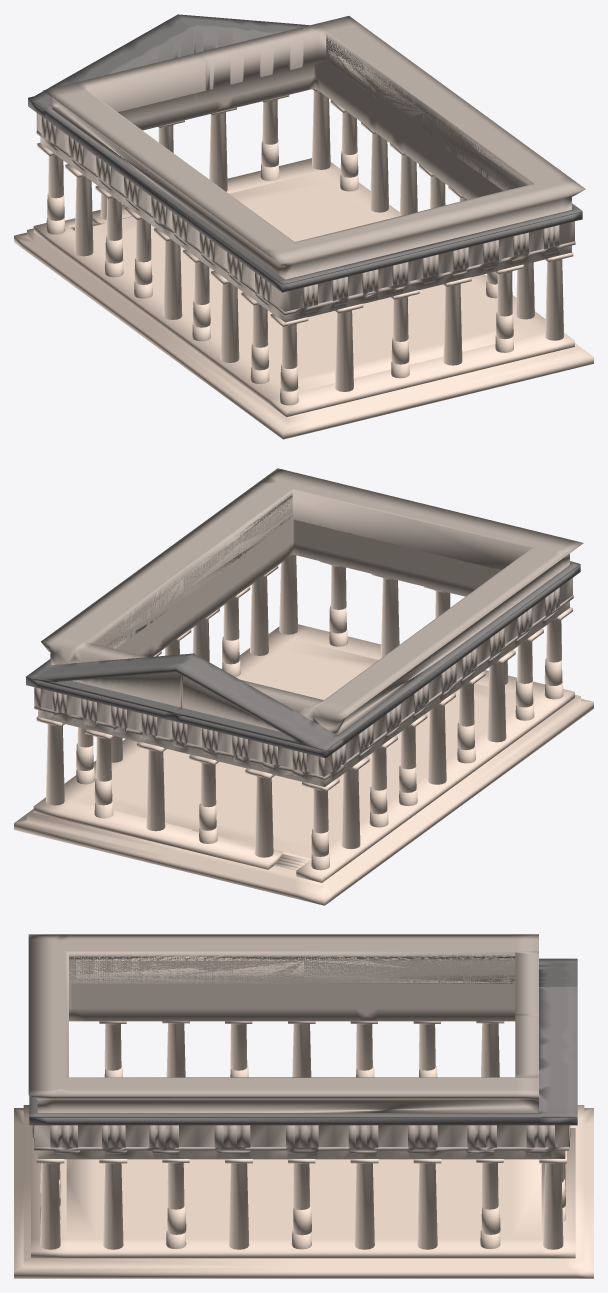
Rendered from parthenon.glb.
3 views of the same model, one above another, from view 1: azimuth 30°, elevation 25°; view 2: azimuth 150°, elevation 25°; view 3: azimuth 270°, elevation 25° (orthographic). The views are drawn at different scales.
Visible parts, largest first — view 1: parthenon; view 2: parthenon; view 3: parthenon.
Part boxes in pixels (<box>): parthenon: <box>14,14,593,439</box>; parthenon: <box>14,468,593,905</box>; parthenon: <box>14,934,593,1278</box>.
Bounding box in the file's own units: 1.55 × 0.9333 × 2.33.
